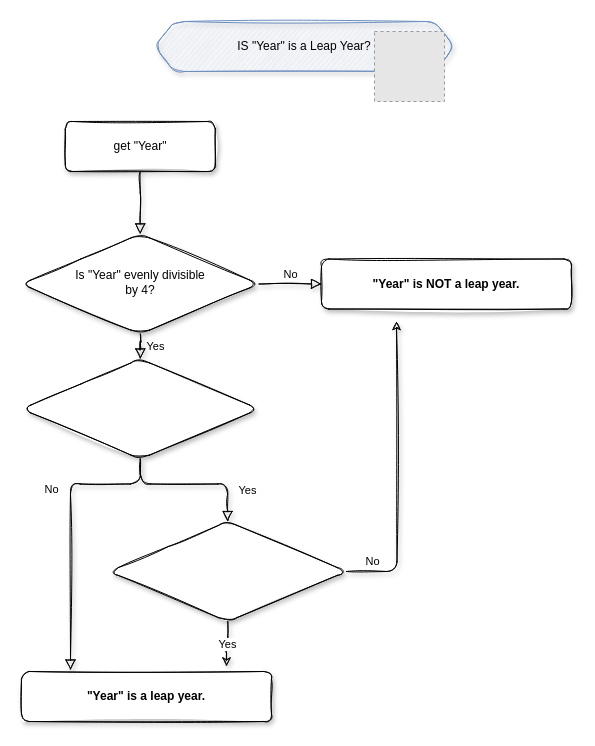
The diagram is 595 pixels wide and 746 high, and some of its shapes have lost their labels. Grey dashed boxes stand in for pictures. The shapes that lost their labels are listed below. From the top down, each one's centre as x and y in pixels, then its label:
point (140, 410): Is "Year" evenly divisible by 100?
point (228, 572): Is "Year" evenly divisible by 400?
